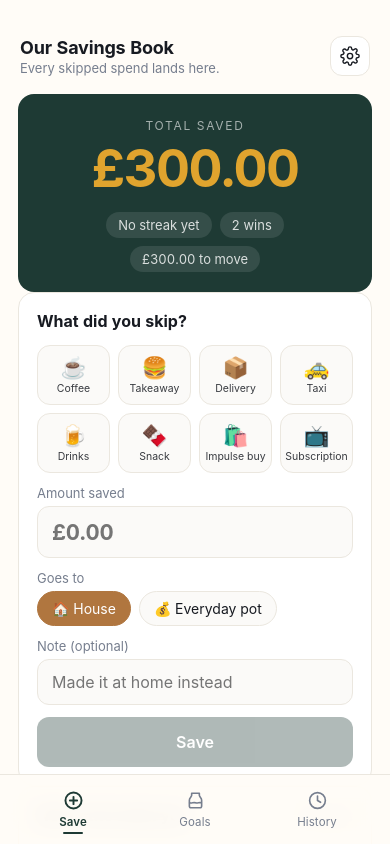
Scenario: eşin aktivitesi › kimin ne koyduğunu gösterir
Click the button "Goals" at (195, 808), box [134, 781, 256, 834]
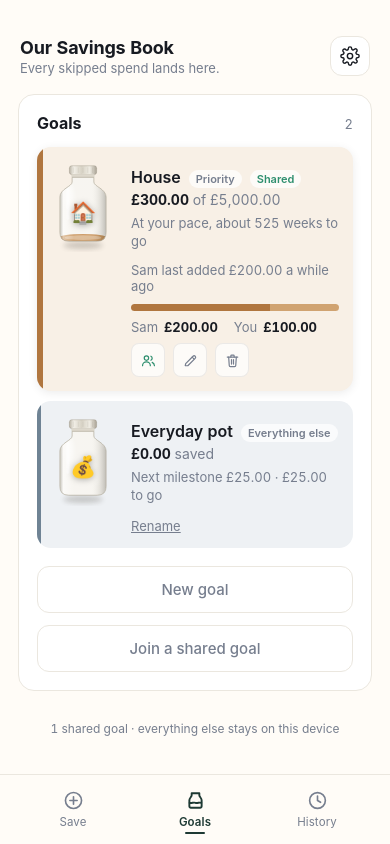
Expected: the text "Sam" is shown, [131, 319, 158, 335]
Expected: the text "£100.00" is shown, [263, 319, 317, 335]
Expected: the text "£200.00" is shown, [164, 319, 218, 335]
